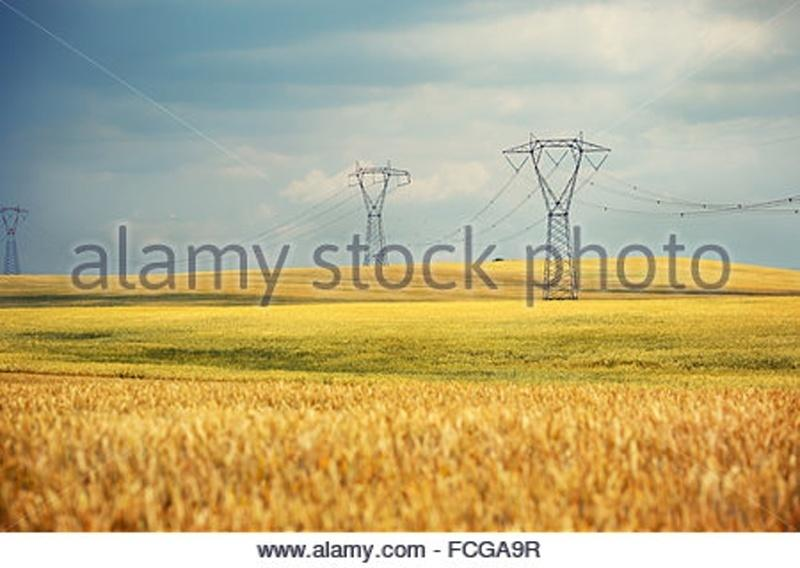power_tower: (492, 119, 618, 281), (343, 158, 408, 264)
